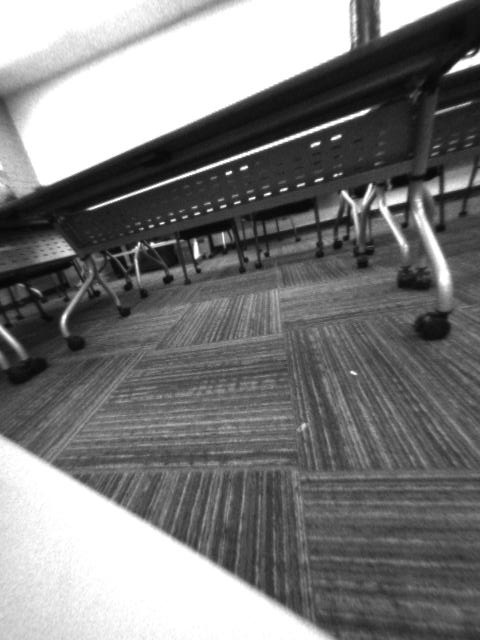can: (345, 1, 387, 54)
